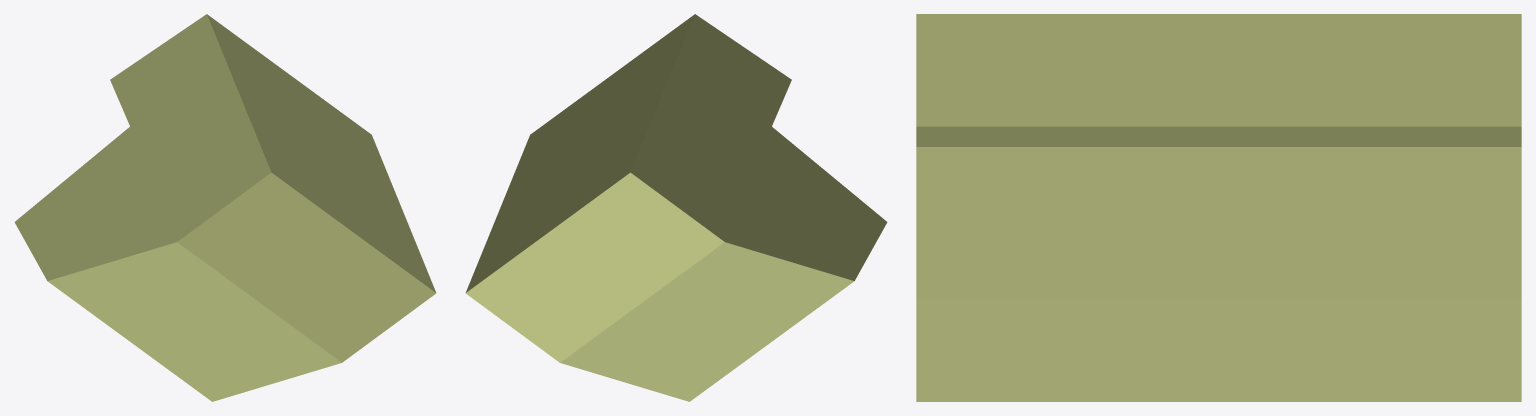
3 renders of one model, left to right at view 1: azimuth 30°, elevation 25°; view 2: azimuth 150°, elevation 25°; view 3: azimuth 270°, elevation 25°, orthographic. The views are drawn at different scales.
Visible parts, largest first — view 1: 0_0_1_1_3_2_3_2_0; view 2: 0_0_1_1_3_2_3_2_0; view 3: 0_0_1_1_3_2_3_2_0.
Part boxes in pixels (x1,y1,x2,y2): 0_0_1_1_3_2_3_2_0: [14, 14, 436, 401]; 0_0_1_1_3_2_3_2_0: [465, 14, 887, 401]; 0_0_1_1_3_2_3_2_0: [916, 14, 1521, 401].
Bounding box in the file's own units: 8.09 × 6.87 × 9.
